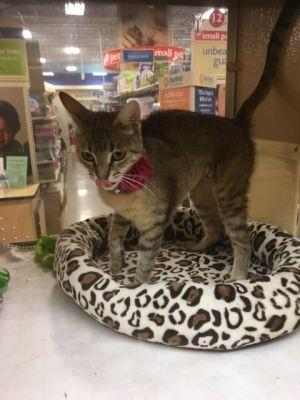bengal: (53, 84, 153, 199)
